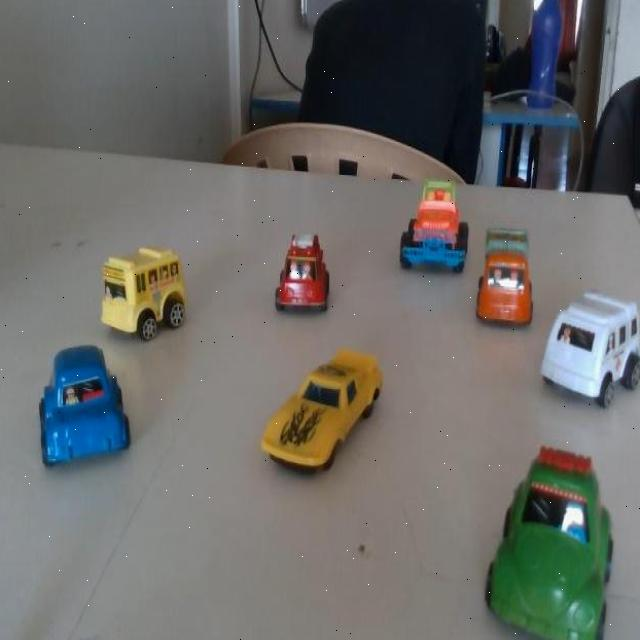car: (493, 454, 637, 628), (258, 348, 398, 475), (535, 276, 640, 424), (31, 342, 133, 476), (108, 246, 198, 348), (386, 171, 468, 274), (272, 223, 346, 329), (476, 214, 542, 330)
